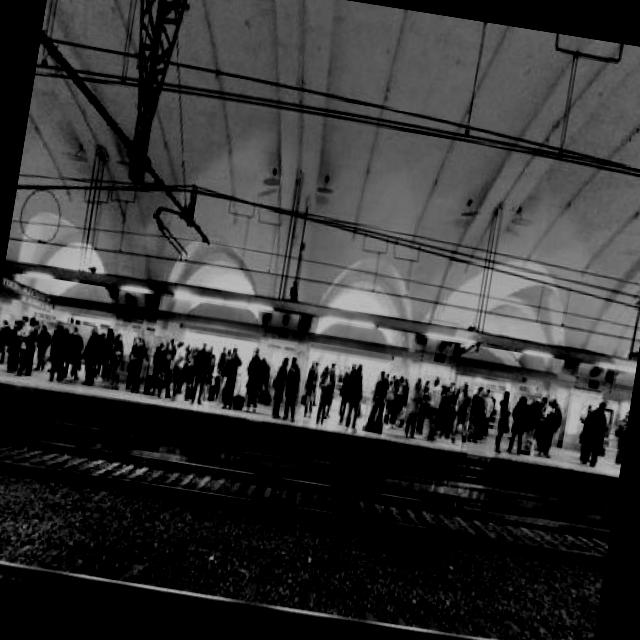Person: (280, 355, 306, 418), (492, 389, 518, 448)
